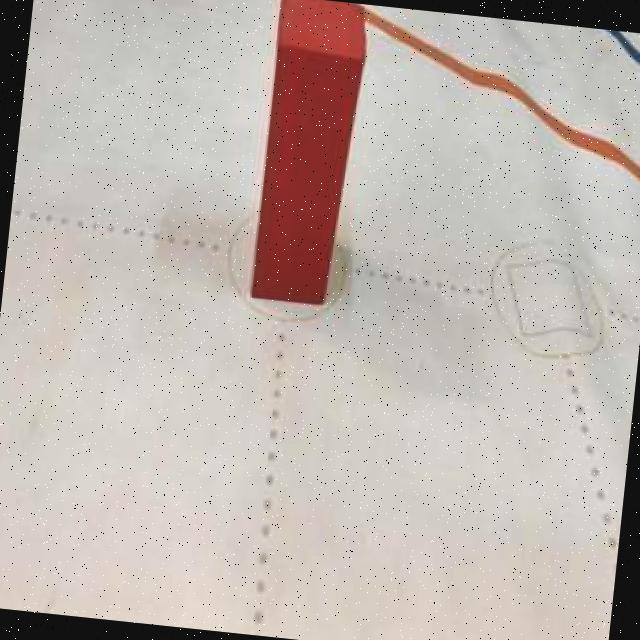redbox: (243, 0, 372, 310)
